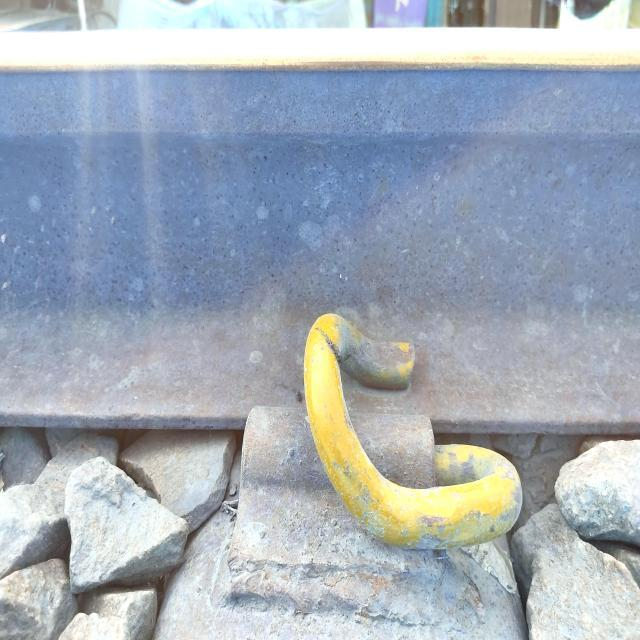Good Fasteners: (215, 314, 526, 638)
